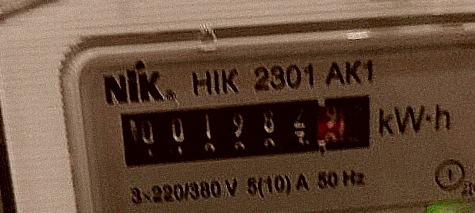0: (166, 113, 187, 144), (136, 115, 156, 146)
1: (198, 110, 214, 140)
2: (288, 99, 309, 130)
8: (258, 104, 278, 134)
9: (319, 100, 343, 131), (227, 108, 246, 139)
screen: (100, 62, 391, 197)
